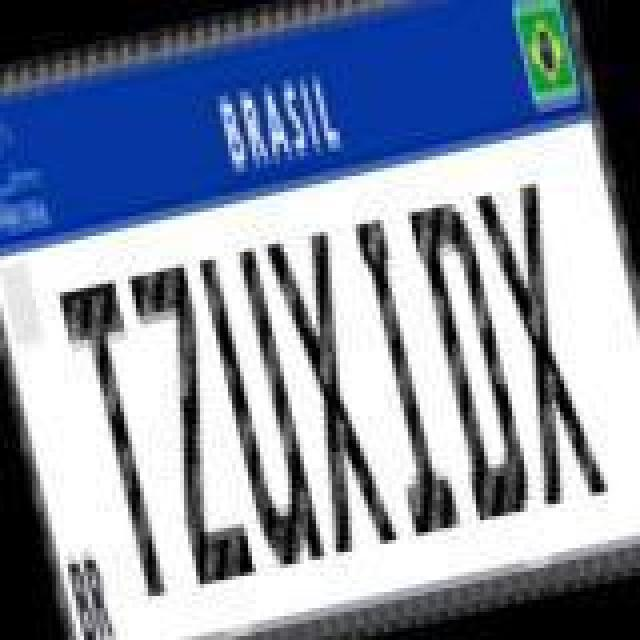D: (406, 194, 538, 526)
I: (342, 210, 466, 542)
T: (54, 274, 186, 606)
U: (196, 240, 332, 576)
X: (470, 176, 610, 512), (264, 224, 400, 560)
Z: (126, 258, 258, 590)
